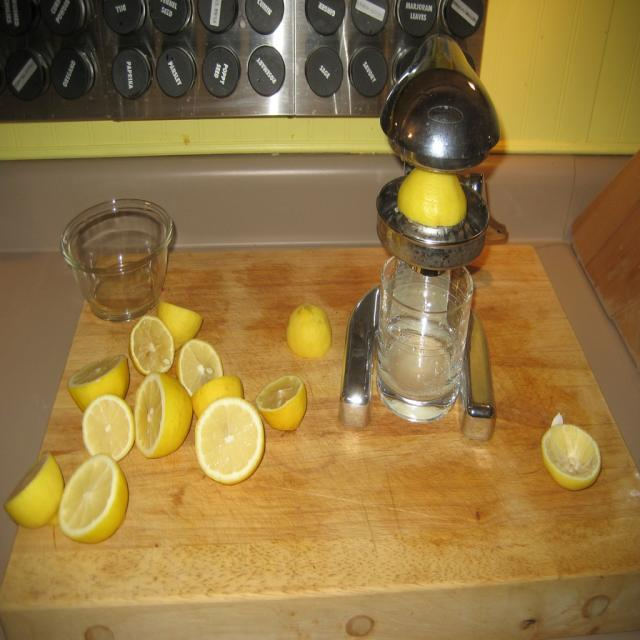Lemon: (6, 305, 306, 541), (52, 456, 124, 541), (545, 417, 600, 487), (401, 173, 463, 225), (255, 374, 308, 432), (285, 308, 329, 362)
